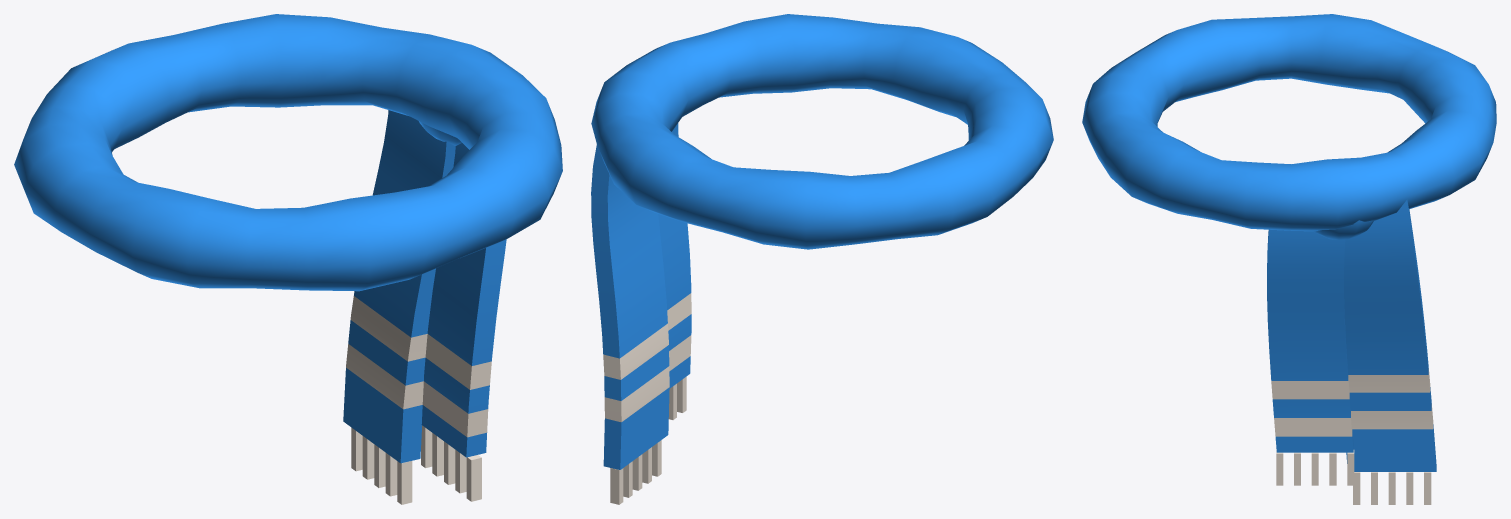
The model's file is detail_scarf.glb.
The picture shows the model from 3 angles, left to right: view 1: azimuth 30°, elevation 25°; view 2: azimuth 150°, elevation 25°; view 3: azimuth 270°, elevation 25°; orthographic projection. The views are drawn at different scales.
Visible parts, largest first — view 1: detail_scarf; view 2: detail_scarf; view 3: detail_scarf.
Part boxes in pixels (x1,y1,x2,y2): detail_scarf: [14, 14, 562, 504]; detail_scarf: [591, 14, 1053, 504]; detail_scarf: [1082, 14, 1496, 504].
Size of the model in its own units: 0.7199 by 0.658 by 0.7008.
